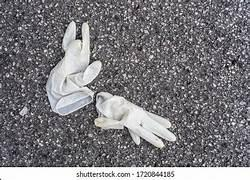Glove: (46, 22, 101, 114), (95, 92, 175, 147)
